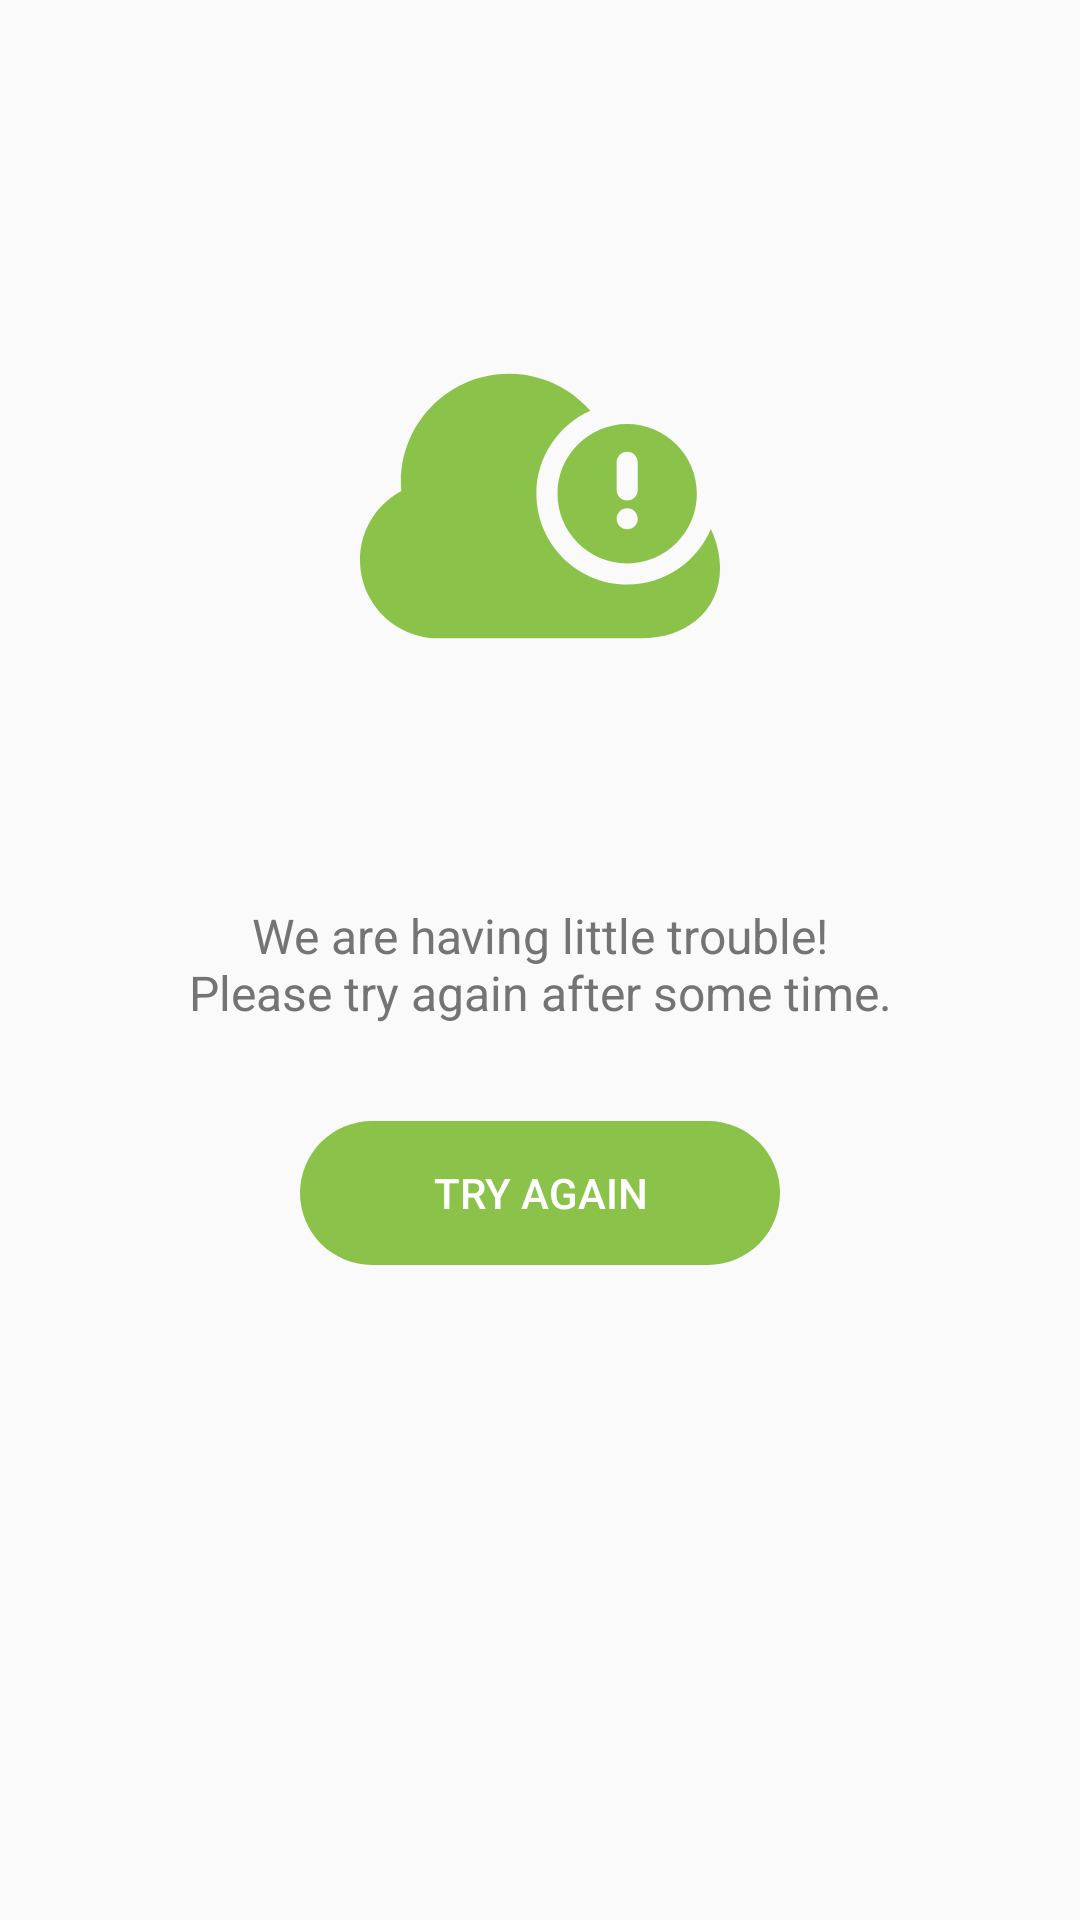

Where icons sit on this 1080px×1920px app screen, as (x1=x1, y1=y1, x2=x2, y2=y2):
network error: (x1=360, y1=373, x2=720, y2=639)
